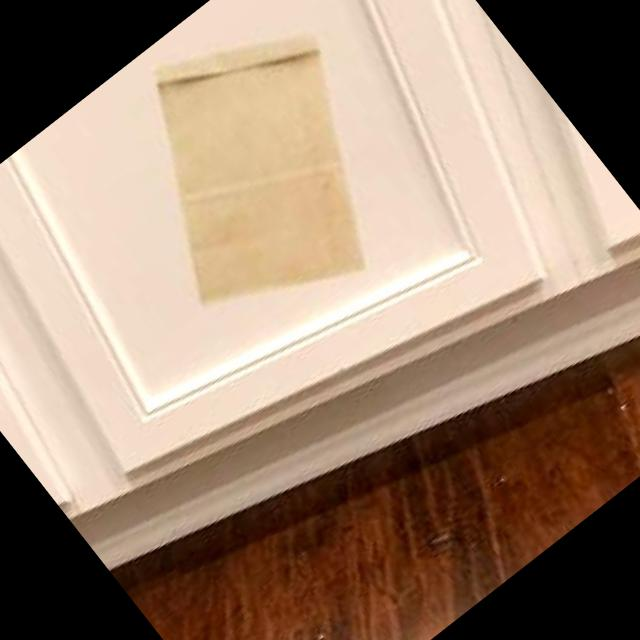KertasBekas: (69, 0, 449, 362)
